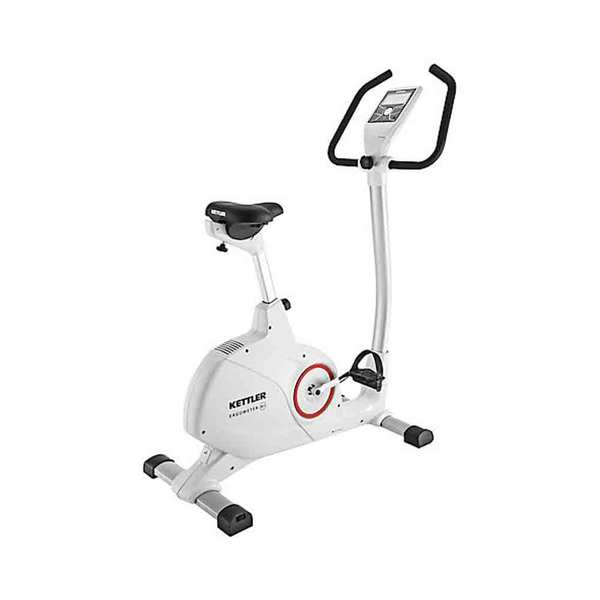gym_bike: (122, 67, 462, 533)
